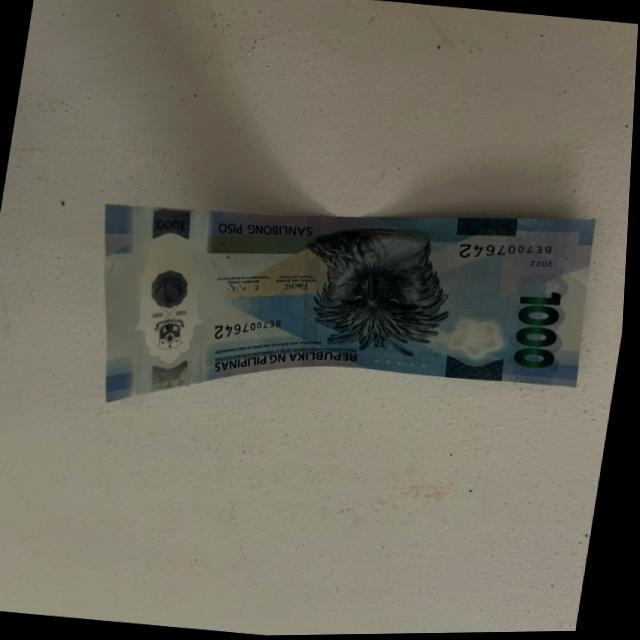clear_window: (93, 190, 239, 411)
eagle: (295, 209, 462, 372)
sampaguita: (439, 294, 526, 371)
security_thread: (281, 215, 349, 369)
serial_number: (456, 233, 570, 272), (207, 310, 287, 350)
value: (503, 288, 575, 379)
